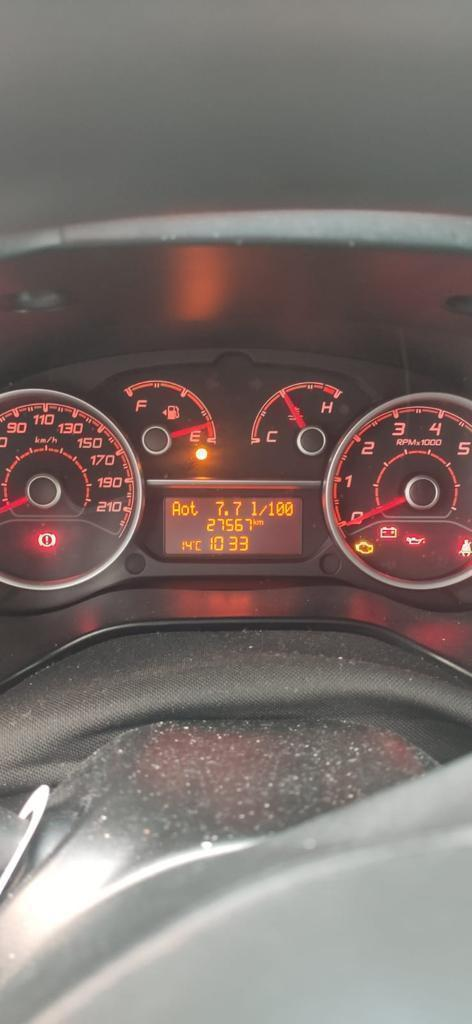,: (224, 510, 229, 516)
0: (213, 536, 223, 551), (284, 501, 294, 516), (275, 501, 284, 516)
1: (268, 500, 275, 516), (208, 536, 213, 550), (181, 540, 185, 551)
2: (205, 518, 215, 531)
3: (238, 535, 249, 551), (227, 535, 237, 551)
4: (185, 540, 192, 551)
5: (225, 518, 233, 531)
6: (234, 518, 243, 532)
7: (214, 500, 224, 516), (231, 500, 241, 515), (243, 518, 252, 532), (216, 518, 224, 531)
X: (189, 499, 198, 516), (171, 500, 180, 516), (249, 500, 257, 516), (258, 504, 268, 516), (180, 504, 189, 516), (195, 539, 201, 552), (256, 519, 264, 525), (252, 518, 257, 525)
odometer: (158, 492, 307, 561)
